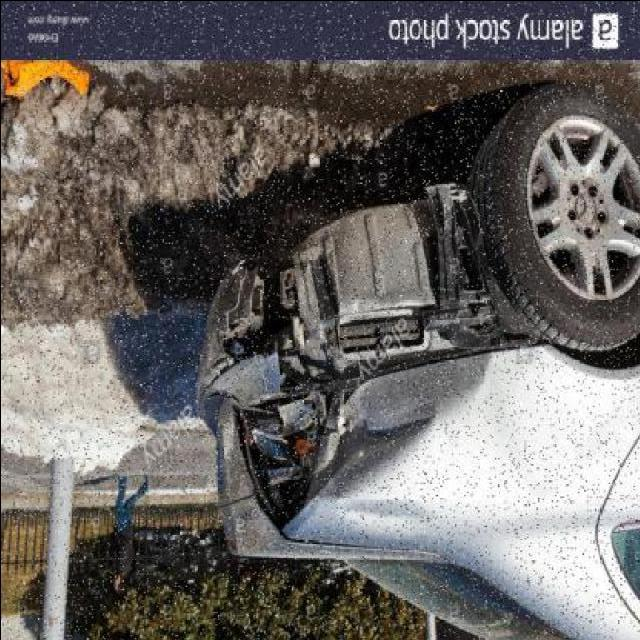quaterpanel-dent: (329, 267, 640, 578)
